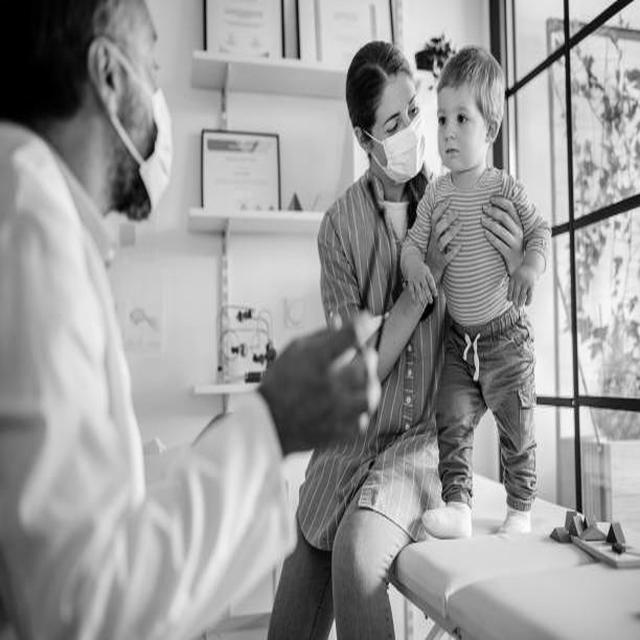Fear: (438, 86, 482, 171)
